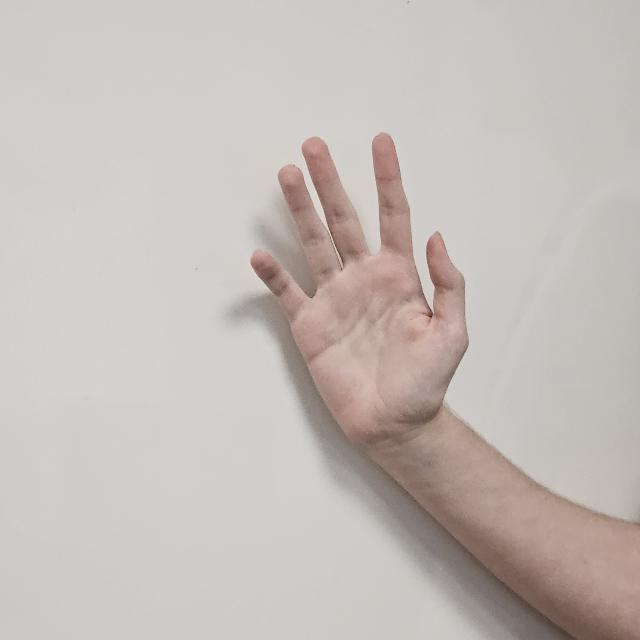X: (238, 131, 474, 465)
